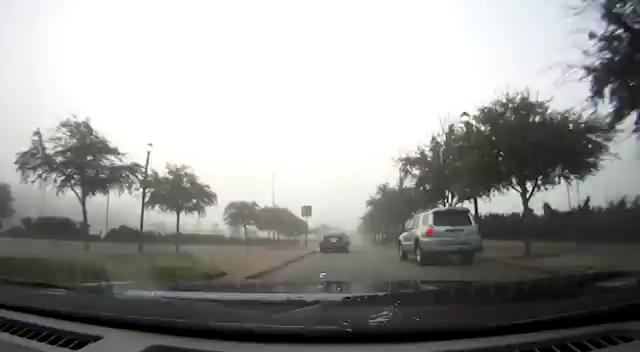car: (397, 206, 484, 264), (320, 232, 351, 253)
